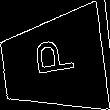P_W: (29, 41, 78, 85)
